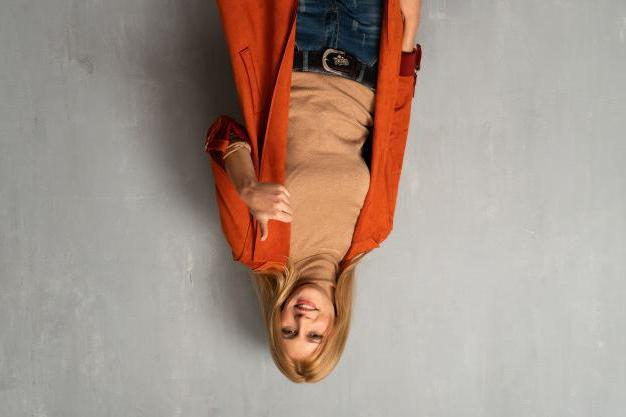thumbsdown: (259, 183, 293, 242)
